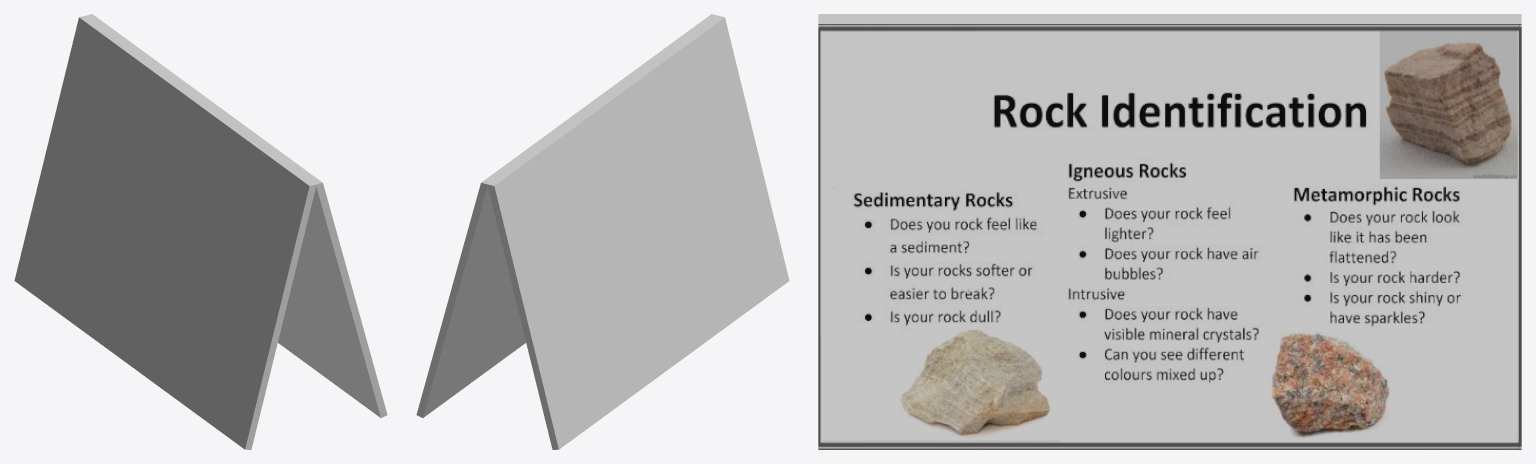
Rendered from RockIdentification.fbx.
3 views of the same model, side by side, from view 1: azimuth 30°, elevation 25°; view 2: azimuth 150°, elevation 25°; view 3: azimuth 270°, elevation 25° (orthographic). The views are drawn at different scales.
Parts seen in each view (by area): view 1: Cube; view 2: Cube; view 3: Cube.
Part boxes in pixels (x1,y1,x2,y2): Cube: (14,14,387,449); Cube: (416,14,789,449); Cube: (818,14,1521,449).
Bounding box in the file's own units: 116 × 194 × 325.
